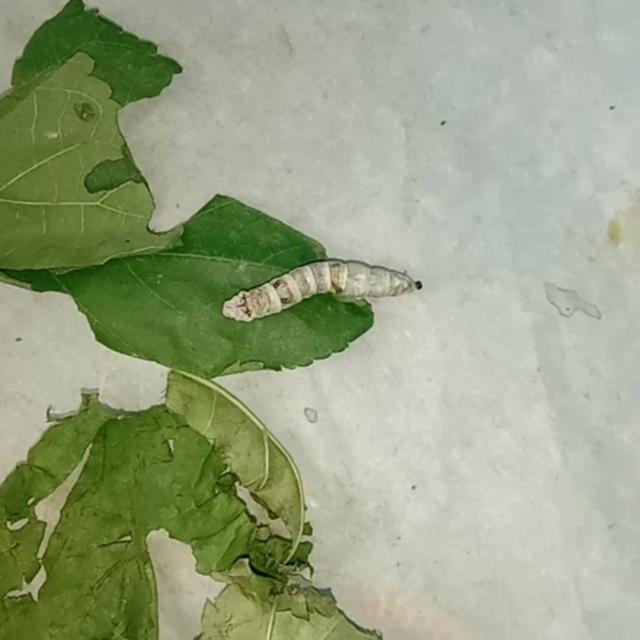Grasserie: (219, 238, 429, 342)
